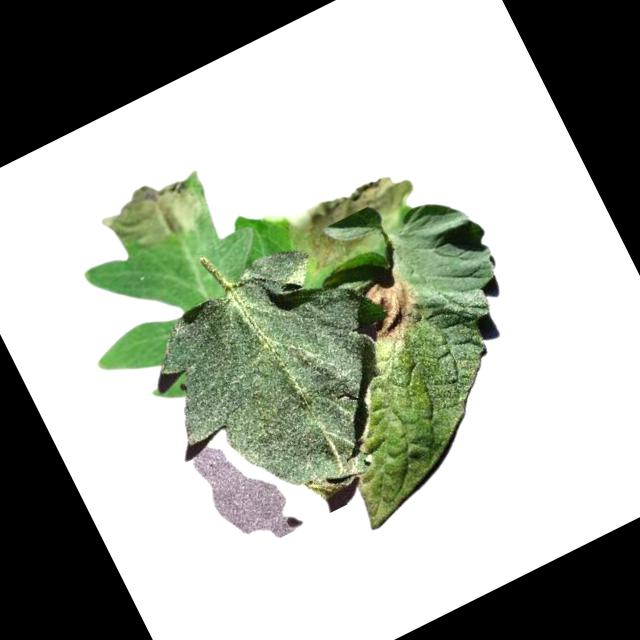Late_blight: (281, 164, 426, 277), (95, 164, 217, 270), (355, 268, 434, 350)
healthy: (128, 226, 429, 537)
